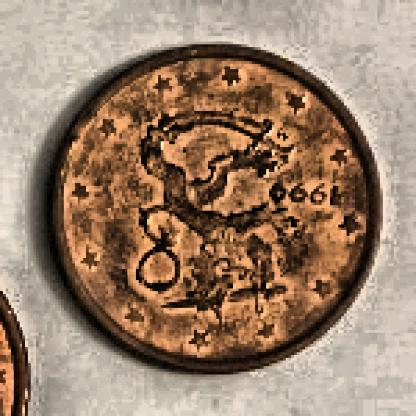coin: (47, 45, 382, 372)
